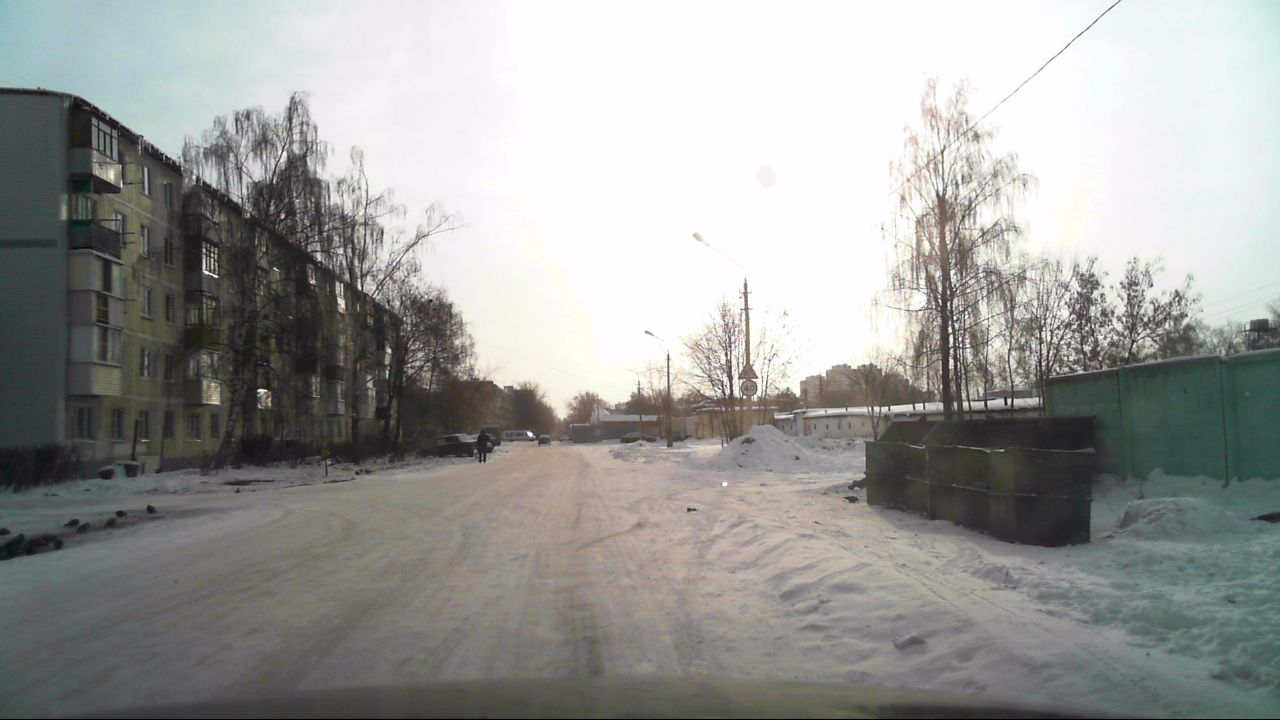speed_warning_40: (741, 380, 757, 396)
